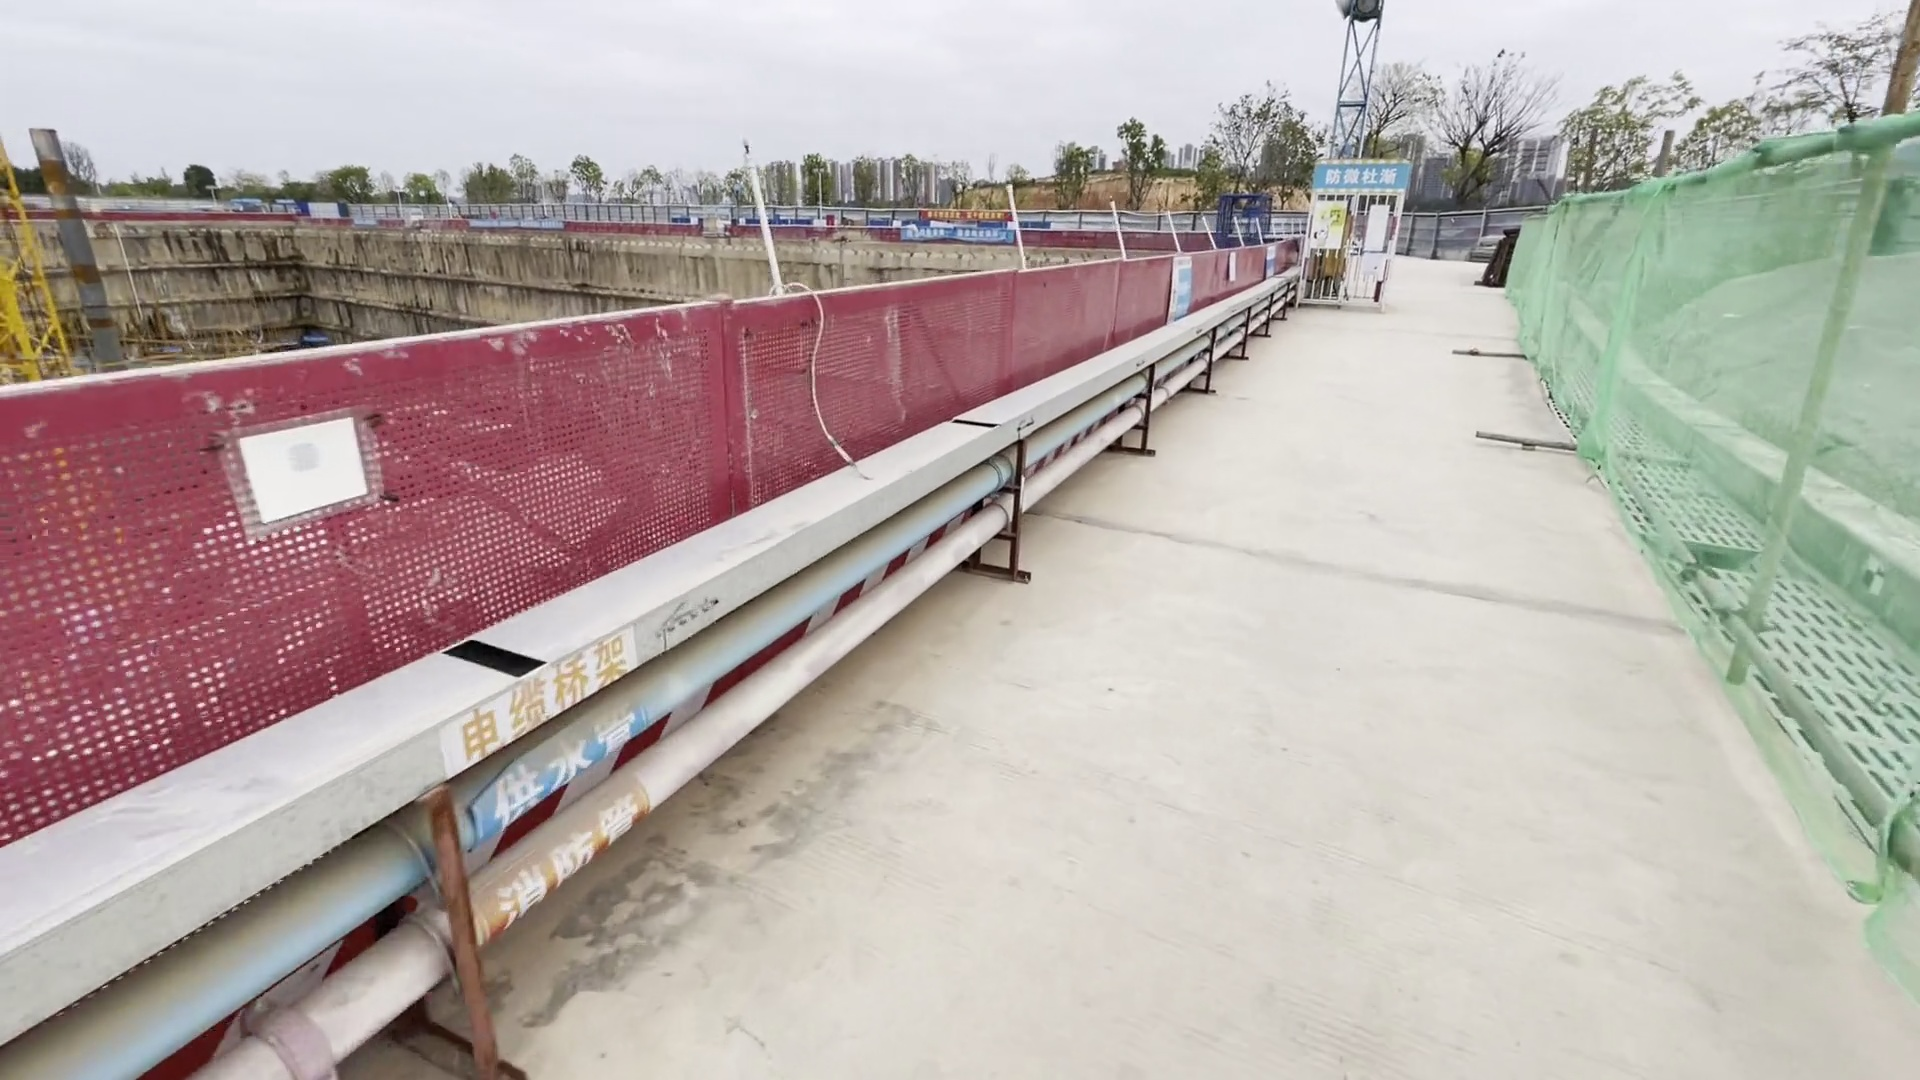fence: (1, 248, 1276, 853)
slogan: (926, 200, 1018, 247), (1325, 157, 1396, 189)
